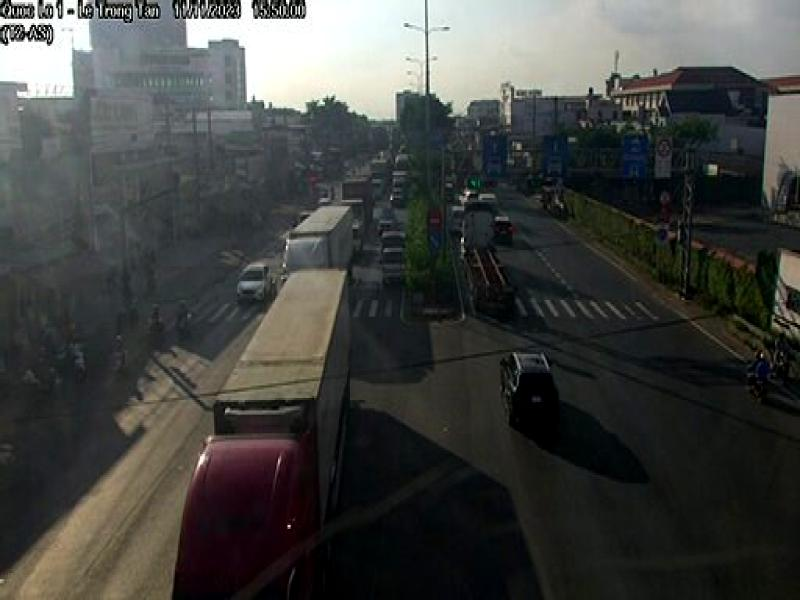truck: (168, 266, 356, 600), (458, 197, 518, 314), (280, 204, 354, 280)
